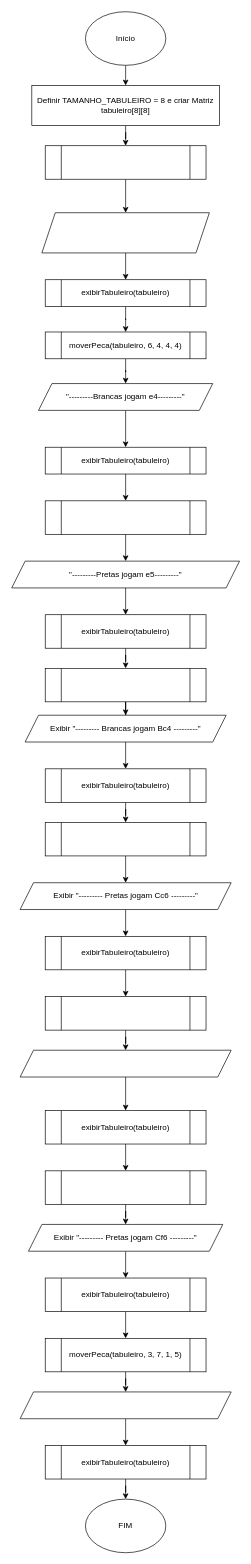
Some shapes in this 251 by 1564 pixel diagram are drawn without their labels. Here are the shapes that lost their labels. From the top down, the box of each, then its label:
(45, 145, 206, 179): Chamar iniciarTabuleiro(tabuleiro)
(41, 212, 209, 253): Exibir "--- TABULEIRO INICIAL ---"
(45, 500, 206, 534): moverPeca(tabuleiro, 1, 4, 3, 4)
(45, 668, 206, 702): moverPeca(tabuleiro, 7, 5, 4, 2)
(45, 822, 206, 856): moverPeca(tabuleiro, 0, 1, 2, 2)
(45, 996, 206, 1030): moverPeca(tabuleiro, 7, 3, 3, 7)
(19, 1050, 231, 1077): Exibir "--------- Brancas jogam Dh5 ---------"
(45, 1170, 206, 1204): moverPeca(tabuleiro, 0, 6, 2, 5)
(19, 1391, 231, 1419): Exibir "---Brancas capturam Peao em f7 (Dxf7#)---"
